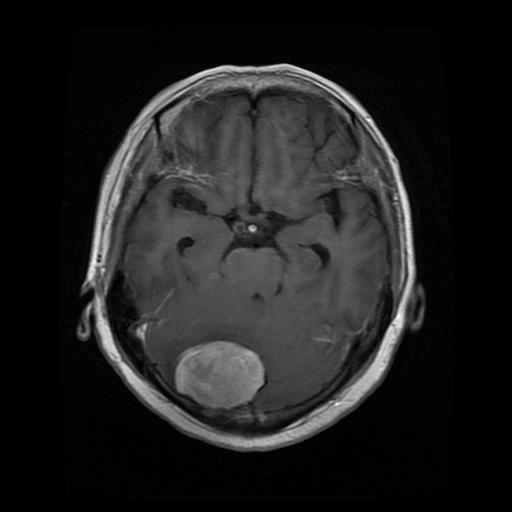Tumour-Pituitary: (163, 333, 284, 417)
